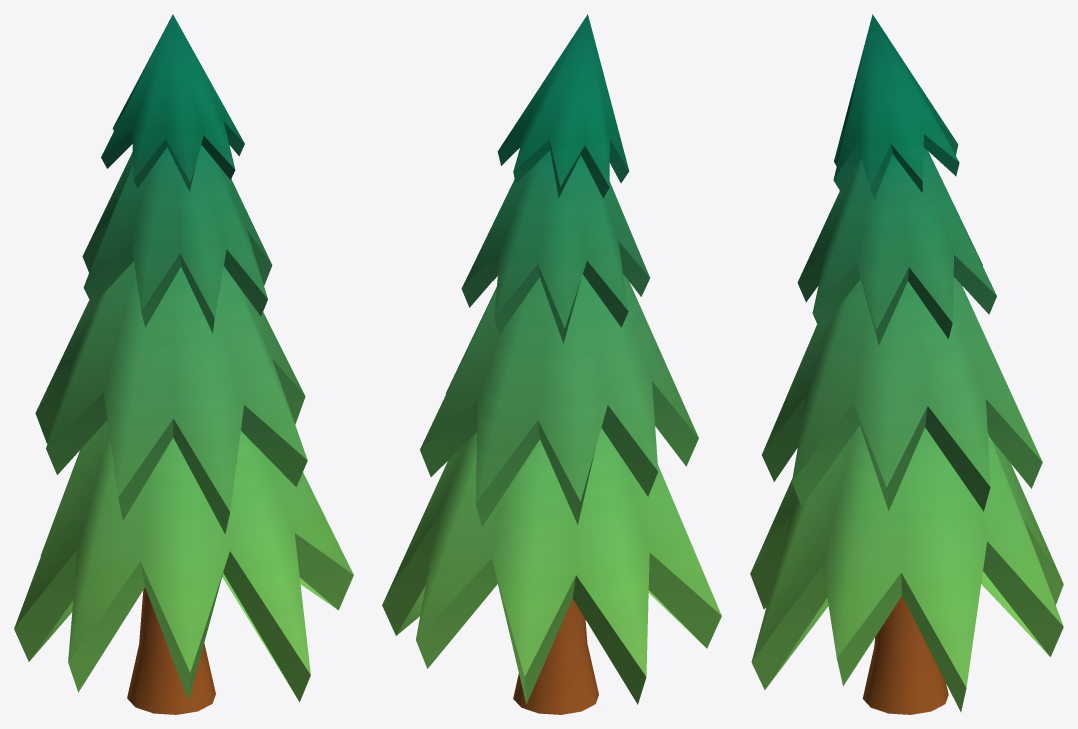
Rendered from decorLarge-snow-29.glb.
3 renders of one model, left to right at view 1: azimuth 30°, elevation 25°; view 2: azimuth 150°, elevation 25°; view 3: azimuth 270°, elevation 25°, orthographic. The views are drawn at different scales.
Visible parts, largest first — view 1: piece; view 2: piece; view 3: piece.
Part boxes in pixels (<box>): piece: <box>14,14,353,714</box>; piece: <box>382,14,721,714</box>; piece: <box>750,14,1063,714</box>.
Size of the model in its own units: 1.82 by 4.24 by 1.79.
Materials: 1 (1 with a texture image).
